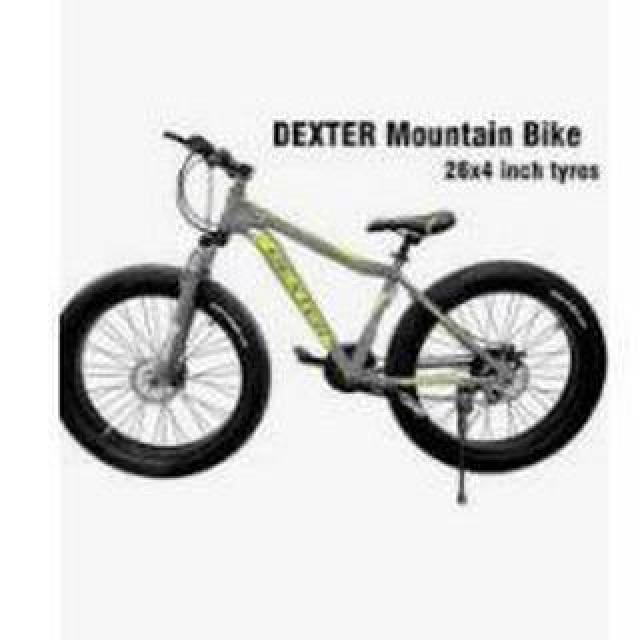Person: (57, 131, 611, 493)
